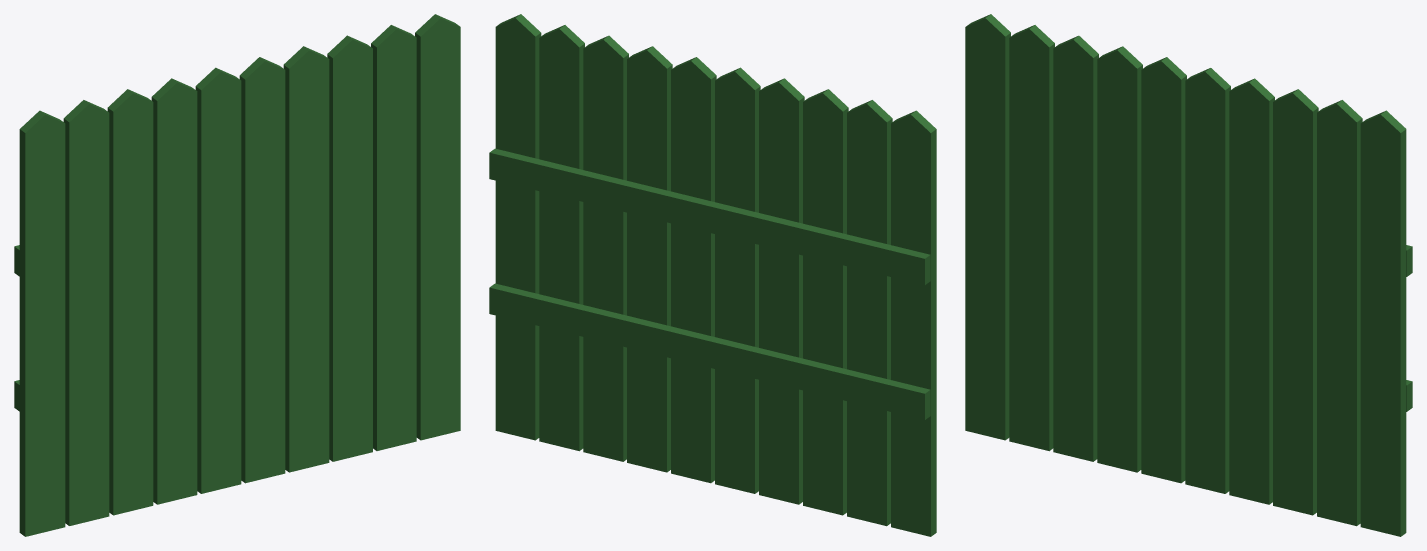
The model's file is GreenFence.fbx.
3 renders of one model, left to right at view 1: azimuth 30°, elevation 25°; view 2: azimuth 150°, elevation 25°; view 3: azimuth 330°, elevation 25°, orthographic.
Visible parts, largest first — view 1: Fence_Type3_02; view 2: Fence_Type3_02; view 3: Fence_Type3_02.
Boxes of the visible parts, x1,y1,x2,y2 form: Fence_Type3_02: (14,14,460,536); Fence_Type3_02: (489,14,936,536); Fence_Type3_02: (965,14,1412,536).
Bounding box in the file's own units: 322 × 295 × 14.61.
